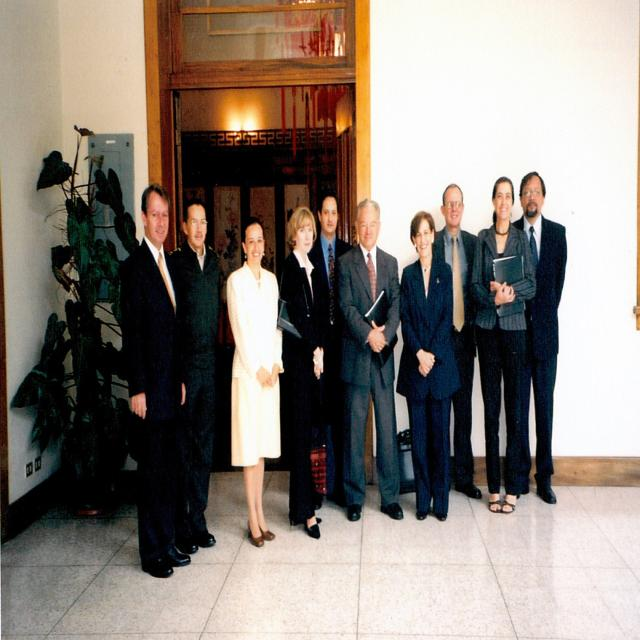body: (117, 182, 202, 581), (470, 176, 538, 516), (335, 198, 404, 522), (506, 169, 569, 508), (224, 214, 287, 550), (274, 203, 336, 542), (395, 210, 462, 519), (168, 202, 222, 554), (432, 182, 484, 502), (308, 190, 357, 507)
